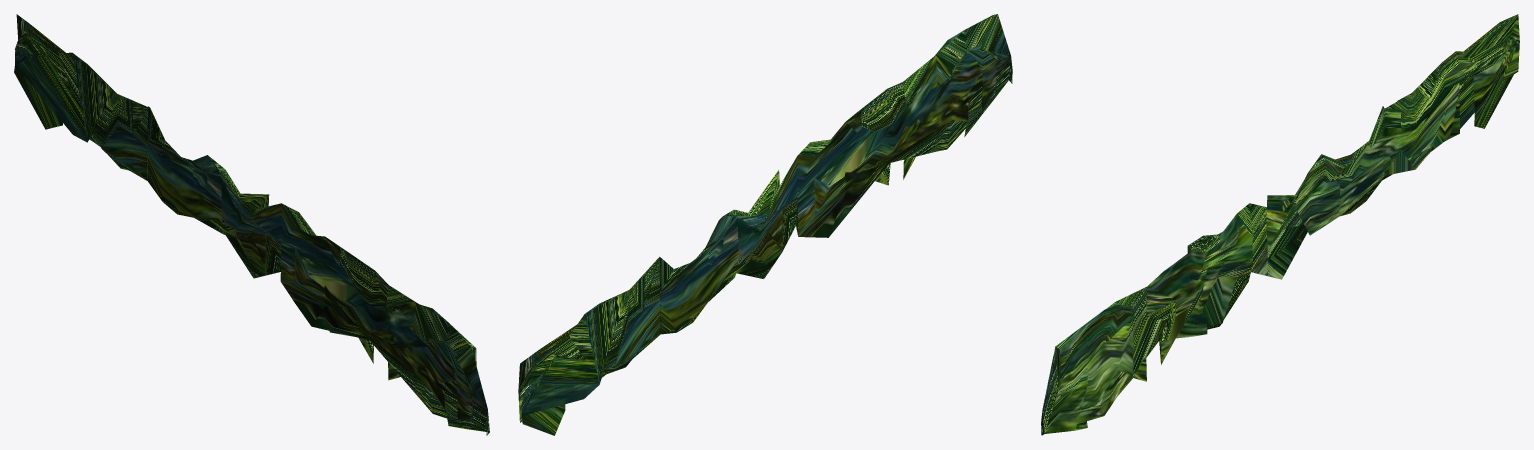
3 views of the same model, side by side, from view 1: azimuth 30°, elevation 25°; view 2: azimuth 150°, elevation 25°; view 3: azimuth 330°, elevation 25° (orthographic). The views are drawn at different scales.
Parts seen in each view (by area): view 1: algae_cube_Cube; view 2: algae_cube_Cube; view 3: algae_cube_Cube.
Boxes of the visible parts, x1=… form: algae_cube_Cube: x1=14, y1=14, x2=489, y2=435; algae_cube_Cube: x1=518, y1=14, x2=1012, y2=435; algae_cube_Cube: x1=1041, y1=14, x2=1519, y2=435.
Size of the model in its own units: 0.0129 by 0.2414 by 1.96.
